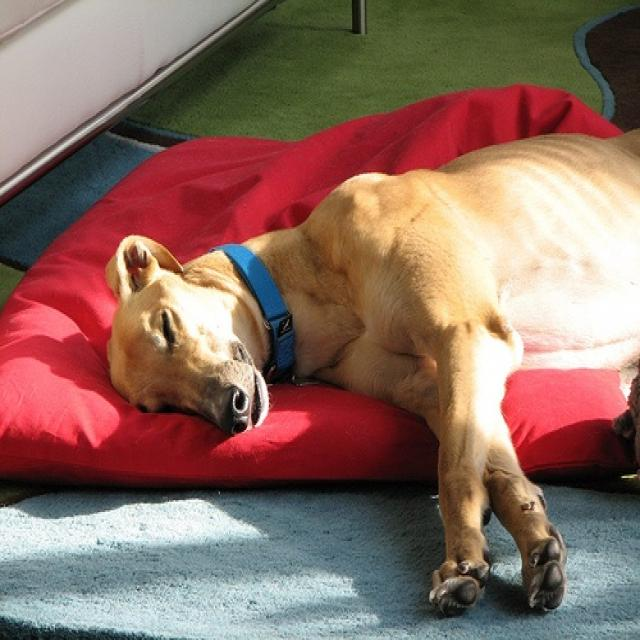dog: (96, 123, 639, 626)
